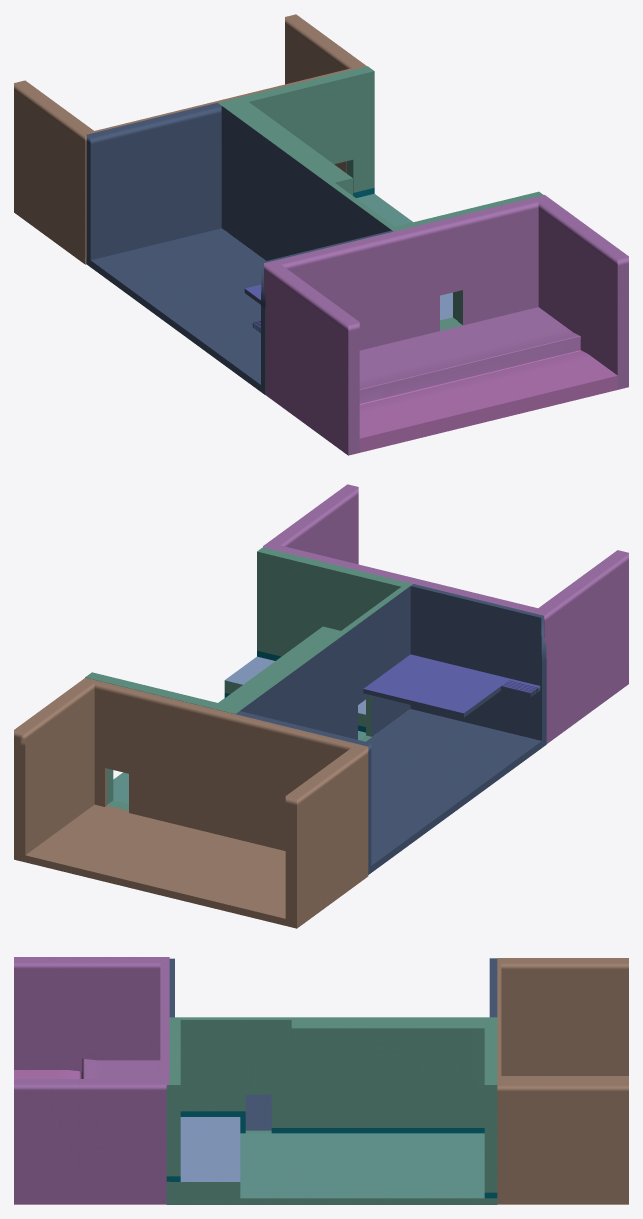
Rendered from room-transformed.glb.
3 views of the same model, one above another, from view 1: azimuth 30°, elevation 25°; view 2: azimuth 150°, elevation 25°; view 3: azimuth 270°, elevation 25° (orthographic). The views are drawn at different scales.
Visible parts, largest first — view 1: polySurface1; view 2: polySurface1, polySurface7; view 3: polySurface1, polySurface7.
Part boxes in pixels (box(x1,y1,x2,y2)): polySurface1: box(14, 14, 628, 455); polySurface1: box(14, 484, 628, 928); polySurface7: box(225, 656, 375, 734); polySurface1: box(14, 957, 628, 1204); polySurface7: box(180, 1117, 240, 1181).
Size of the model in its own units: 0.6186 by 0.2745 by 1.26.
Materials: 2 (2 with a texture image).
